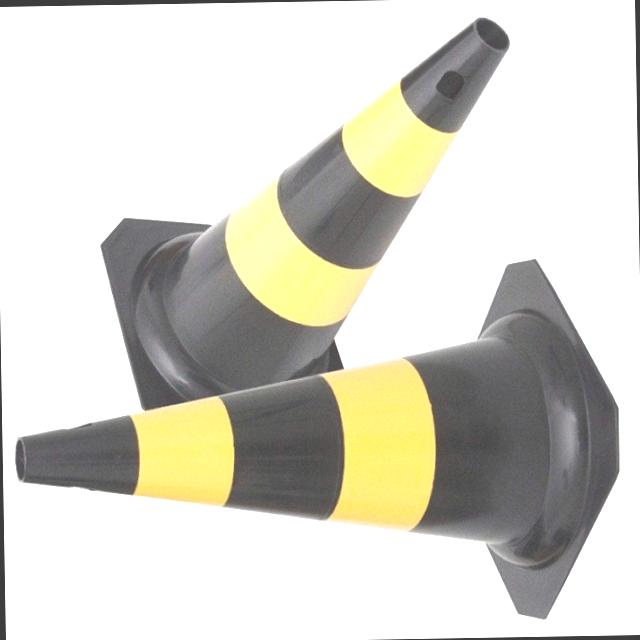cone: (71, 8, 512, 394), (9, 312, 592, 568)
